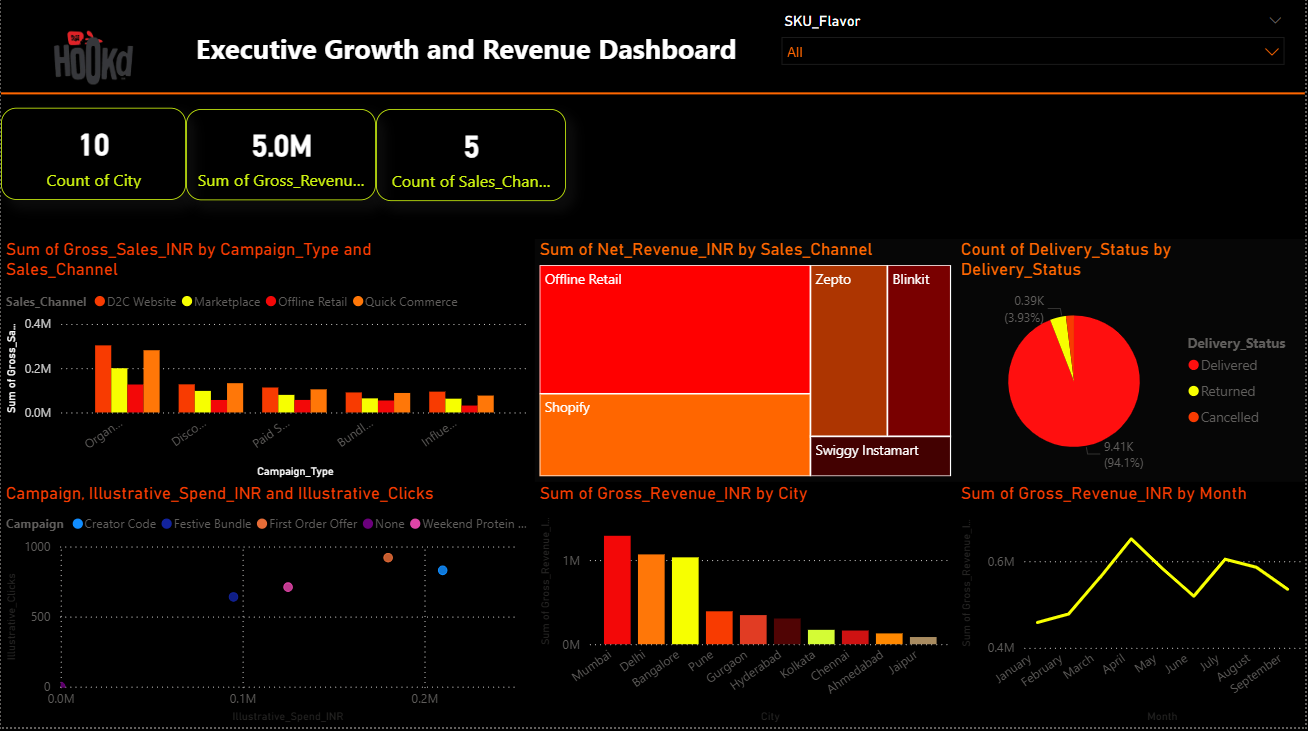

Layout of this report page (visuals, bound fields, positions):
{"tool":"powerbi","page":{"name":"Page 2","canvas":[1280,720],"ordinal":0},"visuals":[{"type":"card","fields":{"Values":["Count(HOOKd_10k_Orders_Transactions (2).City)"]},"box":[0,111.7,181.6,90.8],"z":0},{"type":"scatterChart","fields":{"X":["Marketing_Campaigns.Illustrative_Spend_INR"],"Y":["Marketing_Campaigns.Illustrative_Clicks"],"Series":["Marketing_Campaigns.Campaign"]},"box":[0,480.3,524.2,240.1],"z":1000},{"type":"clusteredColumnChart","fields":{"Category":["Marketing_Campaigns.Campaign_Type"],"Y":["Sum(Order_Lines.Gross_Sales_INR)"],"Series":["Order_Lines.Sales_Channel"]},"box":[0,240.5,523.9,239.3],"z":2000},{"type":"clusteredColumnChart","fields":{"Category":["HOOKd_10k_Orders_Transactions (2).City"],"Y":["Sum(HOOKd_10k_Orders_Transactions (2).Gross_Revenue_INR)"]},"box":[523.9,479.8,413.5,240.5],"z":3000},{"type":"image","box":[0,0,181.6,125.2],"z":4000},{"type":"shape","box":[0,82.2,1279.8,30.7],"z":5000},{"type":"textbox","box":[186.5,30.7,640.5,94.5],"z":6000},{"type":"slicer","fields":{"Values":["HOOKd_10k_Orders_Transactions (2).SKU_Flavor"]},"box":[755.8,13.5,514.1,98.2],"z":7000},{"type":"card","fields":{"Values":["Sum(HOOKd_10k_Orders_Transactions (2).Gross_Revenue_INR)"]},"box":[181.6,112.9,186.5,89.6],"z":8000},{"type":"card","fields":{"Values":["Count(HOOKd_10k_Orders_Transactions (2).Sales_Channel)"]},"box":[368.1,112.9,186.5,90.8],"z":9000},{"type":"treemap","fields":{"Group":["HOOKd_10k_Orders_Transactions (2).Sales_Channel"],"Values":["Sum(HOOKd_10k_Orders_Transactions (2).Net_Revenue_INR)"]},"box":[523.9,240.5,413.5,238],"z":10000},{"type":"pieChart","fields":{"Y":["CountNonNull(HOOKd_10k_Orders_Transactions (2).Delivery_Status)"],"Category":["HOOKd_10k_Orders_Transactions (2).Delivery_Status"]},"box":[937,240,343,238],"z":11000},{"type":"lineChart","fields":{"Category":["HOOKd_10k_Orders_Transactions (2).Date_Time.Variation.Date Hierarchy.Month"],"Y":["Sum(HOOKd_10k_Orders_Transactions (2).Gross_Revenue_INR)"]},"box":[937,480,343,240],"z":12000}]}

Visuals, with their boxes in screenshot pixels (x1, y1, x2, y2), scaled from the page's 1280x720 canvas onto the 1308x731 screenshot:
card - Count(HOOKd_10k_Orders_Transactions (2).City): box=[0, 113, 186, 206]
scatterChart - Marketing_Campaigns.Illustrative_Spend_INR x Marketing_Campaigns.Illustrative_Clicks: box=[0, 488, 536, 730]
clusteredColumnChart - Marketing_Campaigns.Campaign_Type x Sum(Order_Lines.Gross_Sales_INR): box=[0, 244, 535, 487]
clusteredColumnChart - HOOKd_10k_Orders_Transactions (2).City x Sum(HOOKd_10k_Orders_Transactions (2).Gross_Revenue_INR): box=[535, 487, 958, 730]
image: box=[0, 0, 186, 127]
shape: box=[0, 83, 1307, 115]
textbox: box=[191, 31, 845, 127]
slicer - HOOKd_10k_Orders_Transactions (2).SKU_Flavor: box=[772, 14, 1298, 113]
card - Sum(HOOKd_10k_Orders_Transactions (2).Gross_Revenue_INR): box=[186, 115, 376, 206]
card - Count(HOOKd_10k_Orders_Transactions (2).Sales_Channel): box=[376, 115, 567, 207]
treemap - HOOKd_10k_Orders_Transactions (2).Sales_Channel x Sum(HOOKd_10k_Orders_Transactions (2).Net_Revenue_INR): box=[535, 244, 958, 486]
pieChart - CountNonNull(HOOKd_10k_Orders_Transactions (2).Delivery_Status) x HOOKd_10k_Orders_Transactions (2).Delivery_Status: box=[957, 244, 1307, 485]
lineChart - HOOKd_10k_Orders_Transactions (2).Date_Time.Variation.Date Hierarchy.Month x Sum(HOOKd_10k_Orders_Transactions (2).Gross_Revenue_INR): box=[957, 487, 1307, 730]
